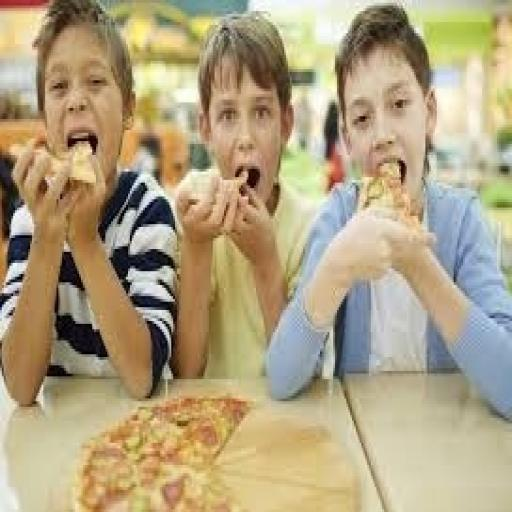eating: (2, 3, 508, 418)
